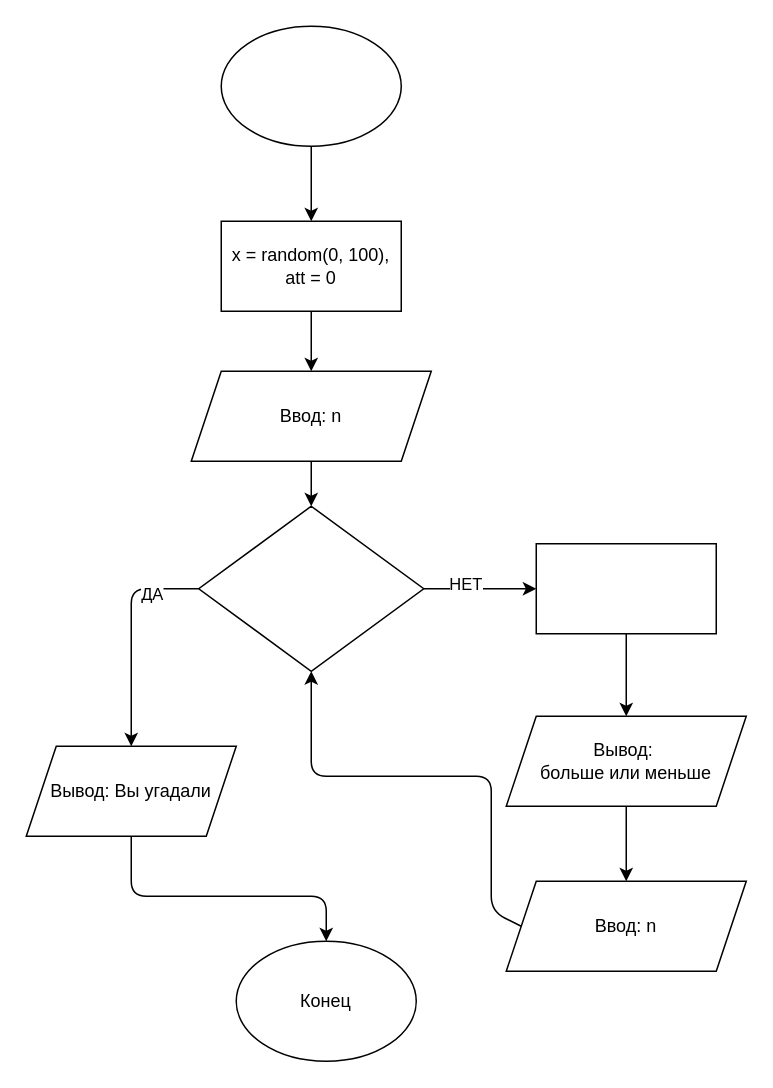
Some shapes in this 773 by 1088 pixel diagram are drawn without their labels. Each missing label, with the centre of its shape:
"att = att + 1" goes at (x=625, y=588).
"x == n ?" goes at (x=310, y=588).
"Начало" goes at (x=310, y=85).
